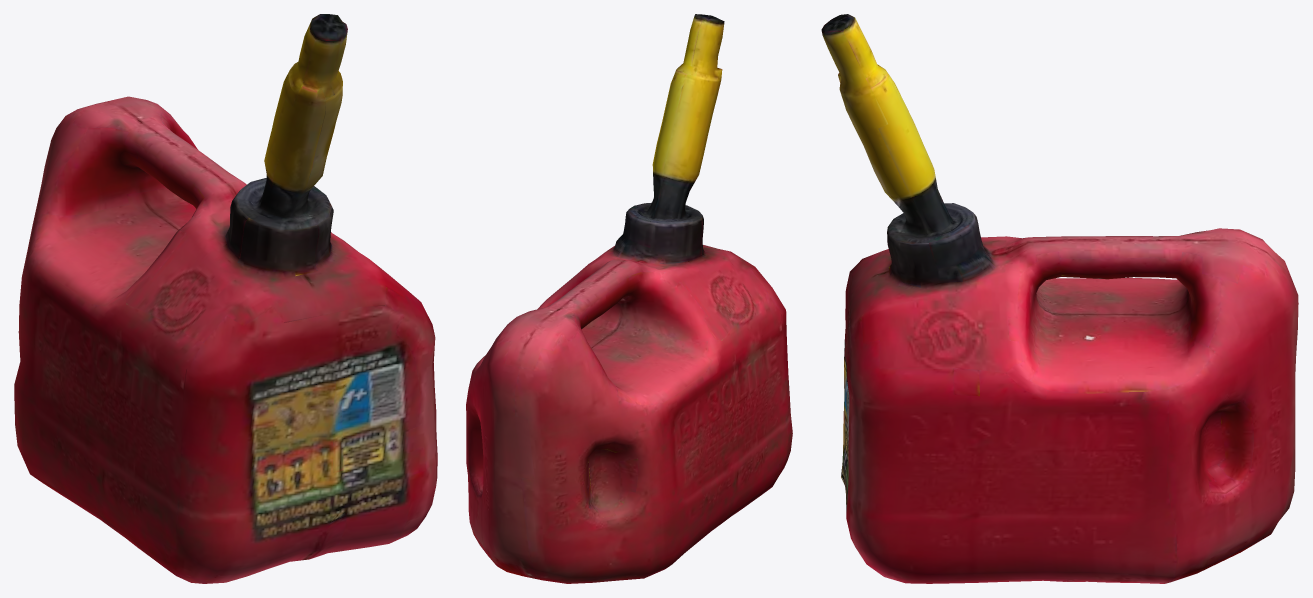
Rendered from gas-can.glb.
3 renders of one model, left to right at view 1: azimuth 30°, elevation 25°; view 2: azimuth 150°, elevation 25°; view 3: azimuth 270°, elevation 25°, orthographic. The views are drawn at different scales.
Parts seen in each view (by area): view 1: PlasticGasCan2_PlasticGasCan2_0; view 2: PlasticGasCan2_PlasticGasCan2_0; view 3: PlasticGasCan2_PlasticGasCan2_0.
Boxes of the visible parts, left/top/right/bottom form: PlasticGasCan2_PlasticGasCan2_0: left=14, top=14, right=437, bottom=583; PlasticGasCan2_PlasticGasCan2_0: left=466, top=14, right=792, bottom=583; PlasticGasCan2_PlasticGasCan2_0: left=821, top=14, right=1298, bottom=583.
Size of the model in its own units: 0.1843 by 0.38 by 0.3139.
1 material, 1 textured.
